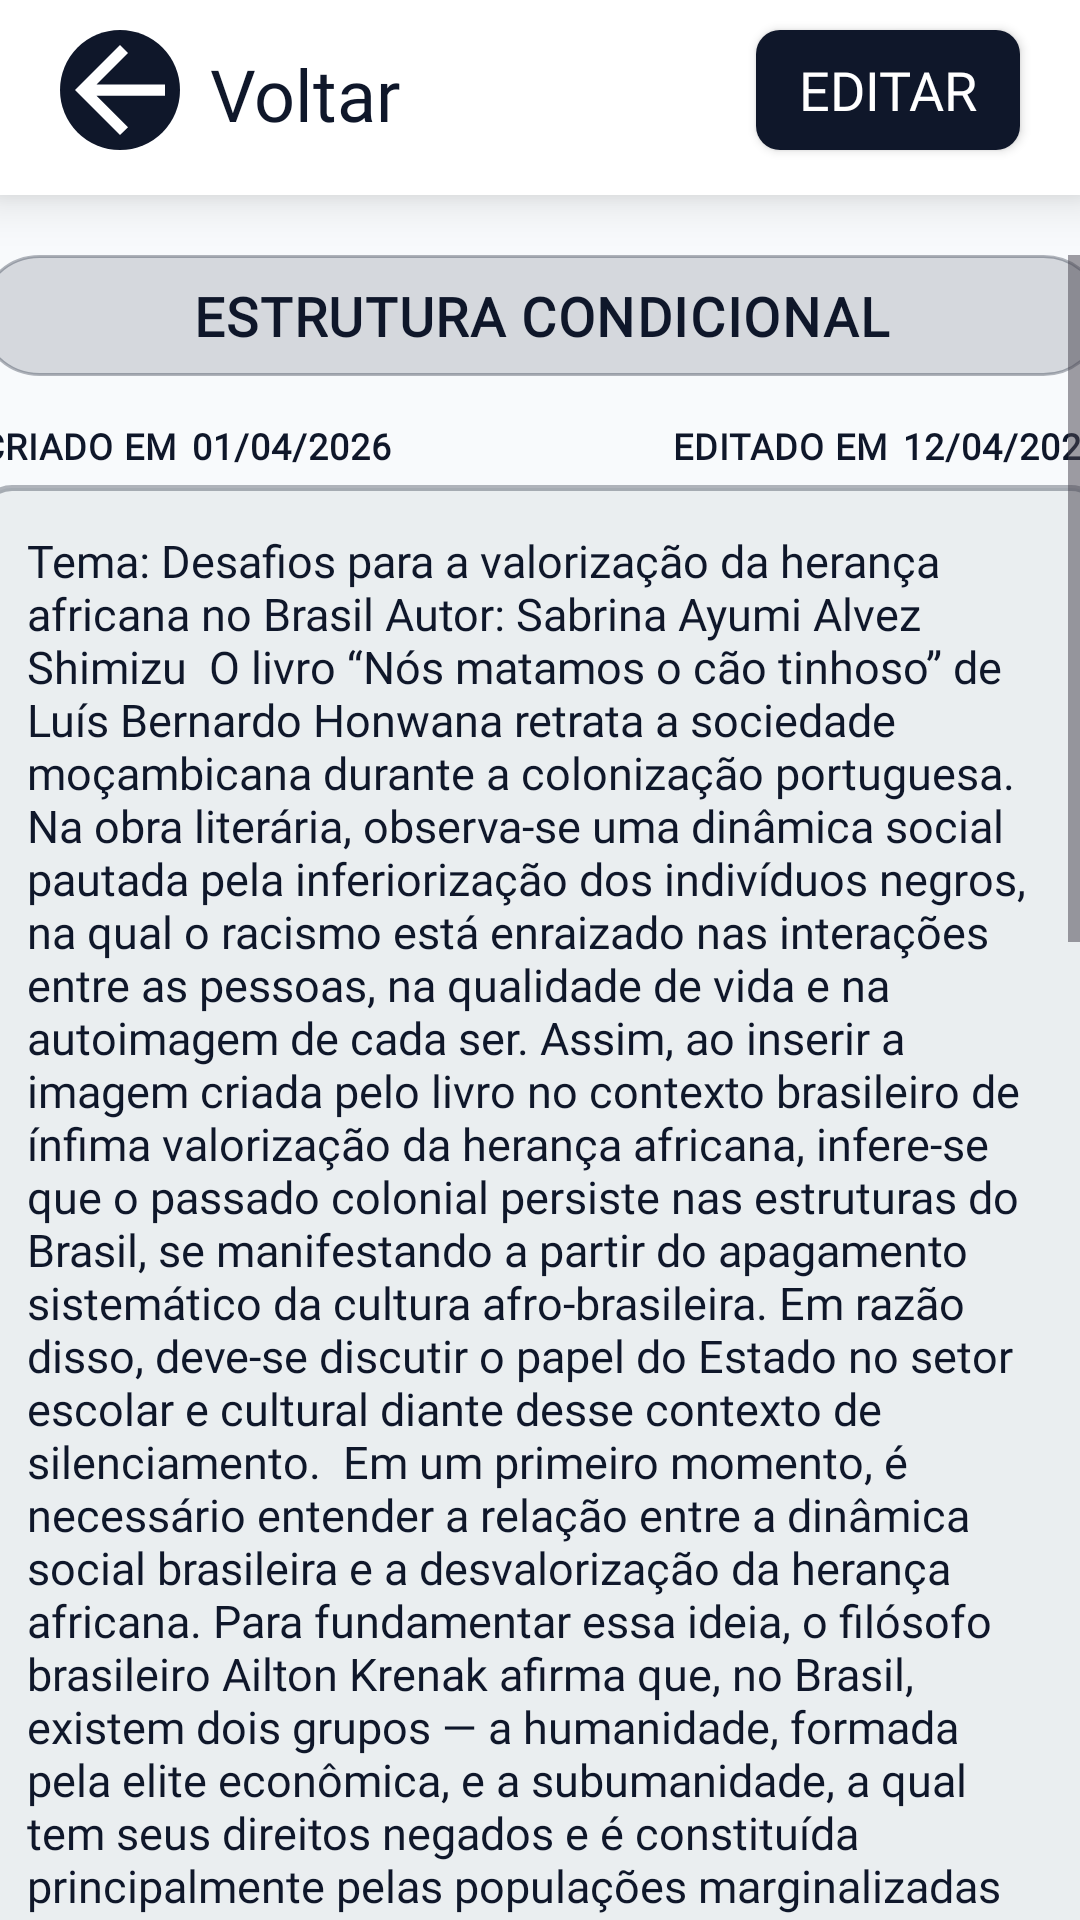

Point at icon controls on the screen. Image size 1080*1920, points as [x,y].
seta: [120,90]
